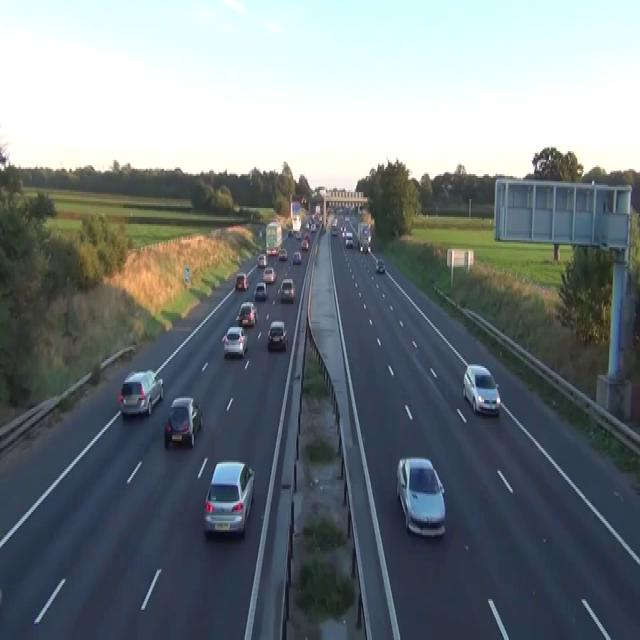Car: (396, 455, 446, 537), (203, 459, 254, 537), (117, 368, 163, 416), (164, 396, 203, 448), (462, 363, 500, 416), (222, 326, 248, 358), (267, 320, 287, 350), (235, 300, 258, 326), (279, 278, 295, 302), (254, 281, 267, 300), (235, 272, 248, 290), (262, 266, 275, 282), (375, 258, 385, 272), (257, 252, 267, 266), (359, 238, 369, 252), (345, 231, 353, 247), (278, 247, 287, 260), (292, 251, 301, 263), (267, 246, 278, 254), (300, 238, 308, 249), (331, 224, 337, 235), (303, 233, 310, 242), (340, 226, 346, 236), (310, 222, 316, 231), (304, 220, 309, 230), (295, 230, 301, 238), (321, 224, 326, 233), (287, 230, 293, 237), (266, 247, 269, 254)
Truck: (265, 220, 282, 254), (358, 222, 371, 252), (291, 199, 301, 235)
